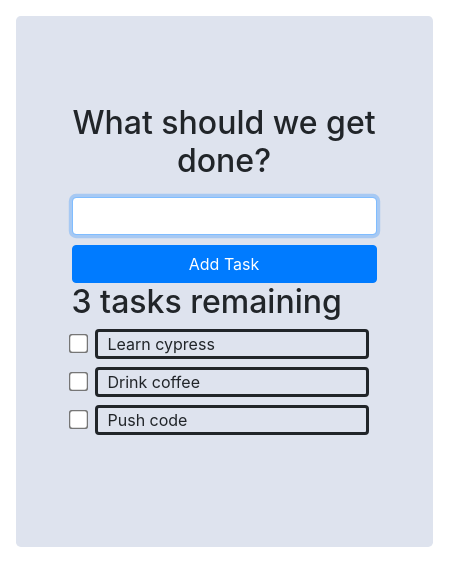
Test case: The task list › checks if task count decrements
Check the checkbox labelled "Learn cypress": (78, 344) x1=68 y1=334 x2=88 y2=354
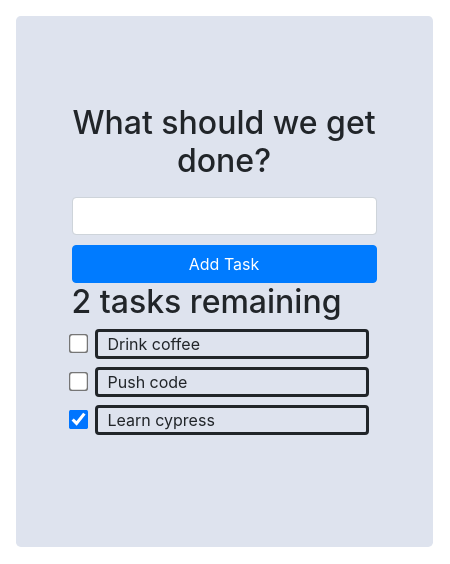
Check: the heading with id "list-heading" shows "2", box x1=72 y1=282 x2=342 y2=321
